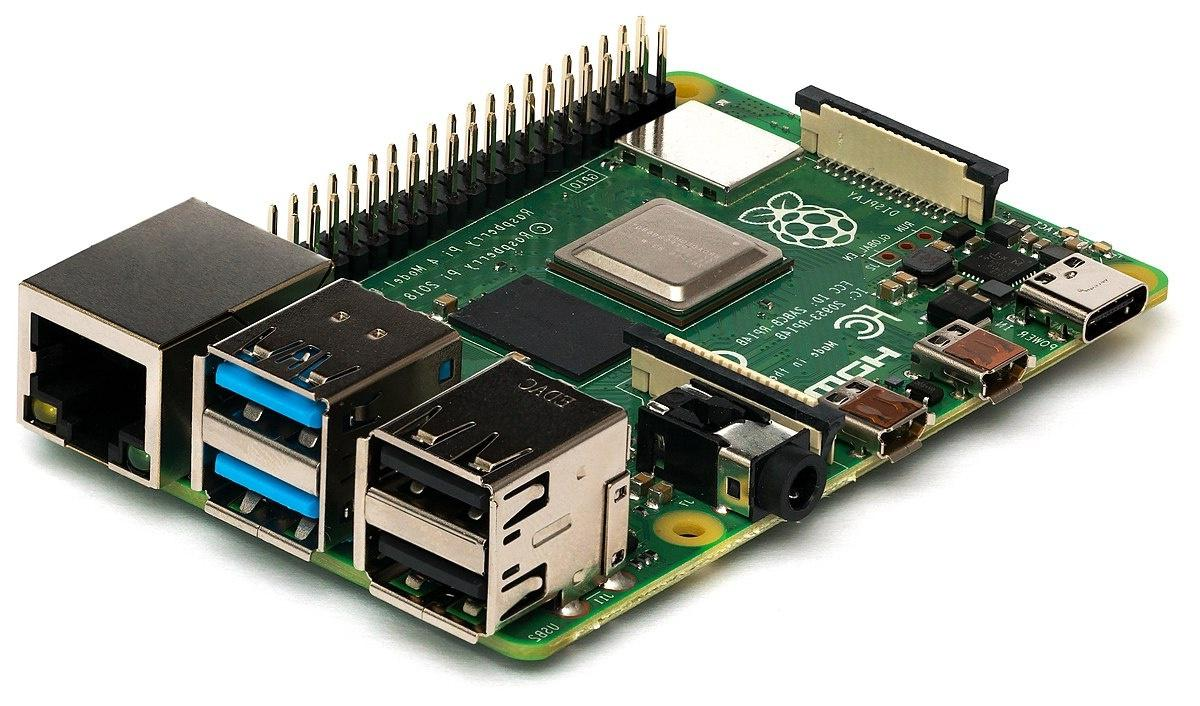audiojack: (636, 376, 841, 529)
bchi: (555, 197, 791, 320)
ethernet: (17, 194, 325, 493)
gpio: (289, 16, 679, 258)
usb: (356, 355, 638, 636), (190, 276, 464, 550)
